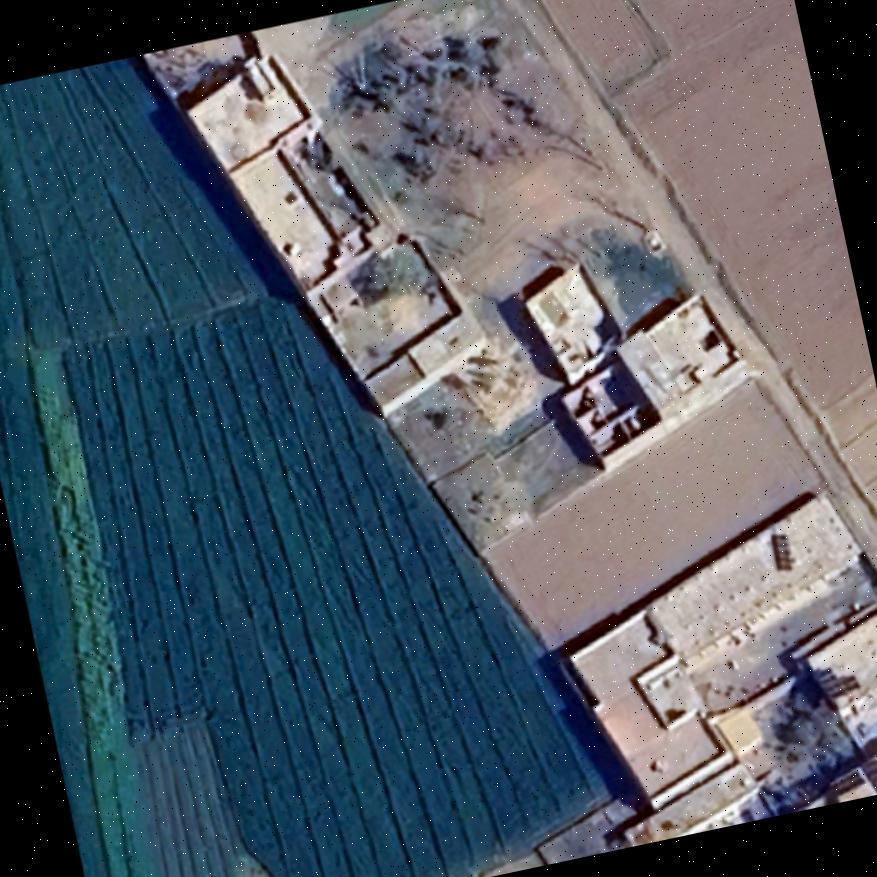Solarpanel: (813, 666, 862, 703), (763, 525, 798, 576), (855, 757, 877, 792)
